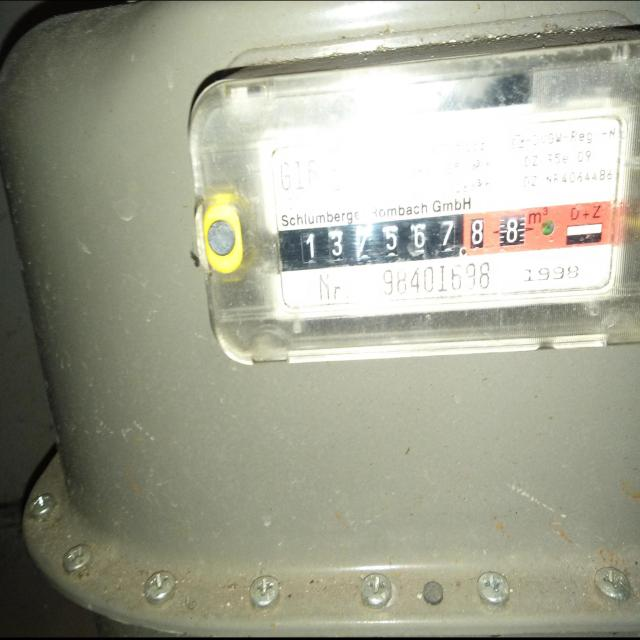gaz_meter: (264, 133, 623, 305)
indication: (276, 207, 528, 272)
